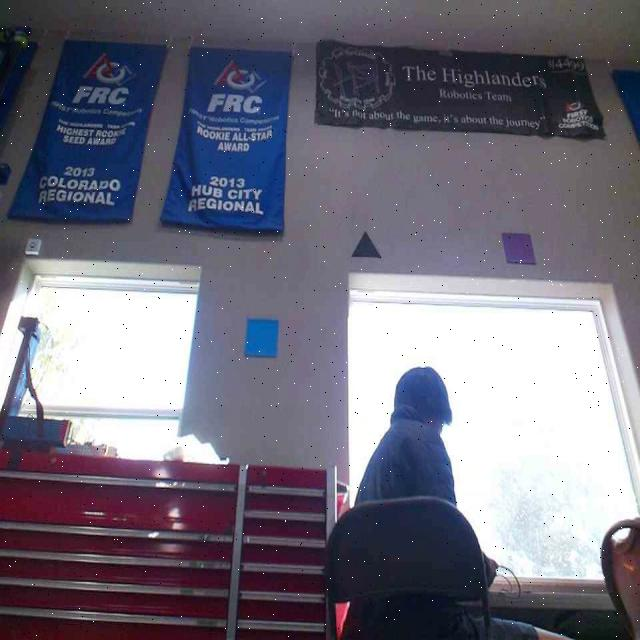square_blue: (240, 318, 280, 357)
square_purple: (501, 231, 536, 263)
triangle_black: (350, 229, 381, 257)
